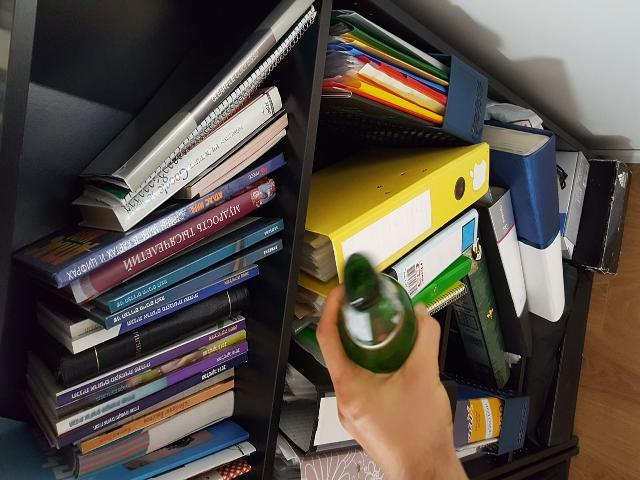beer: (339, 254, 417, 373)
